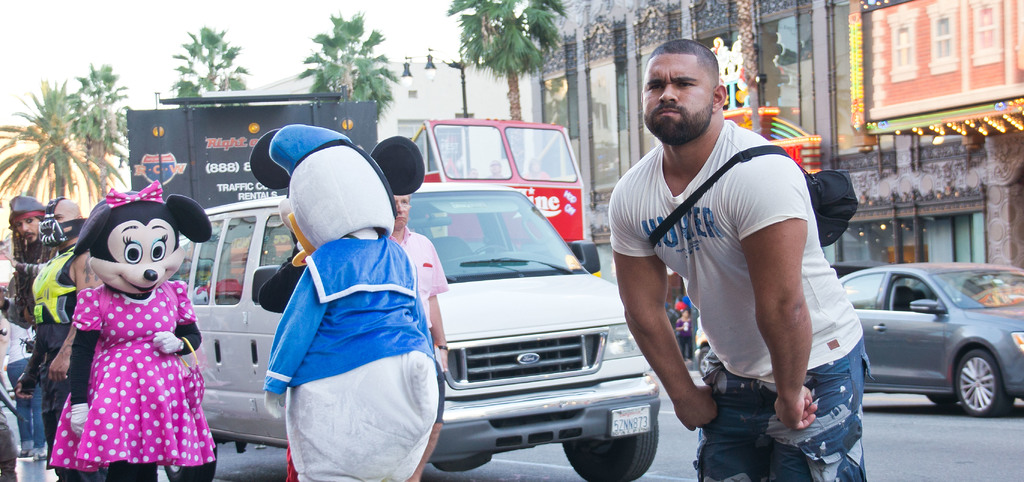Car: (839, 260, 1024, 417)
